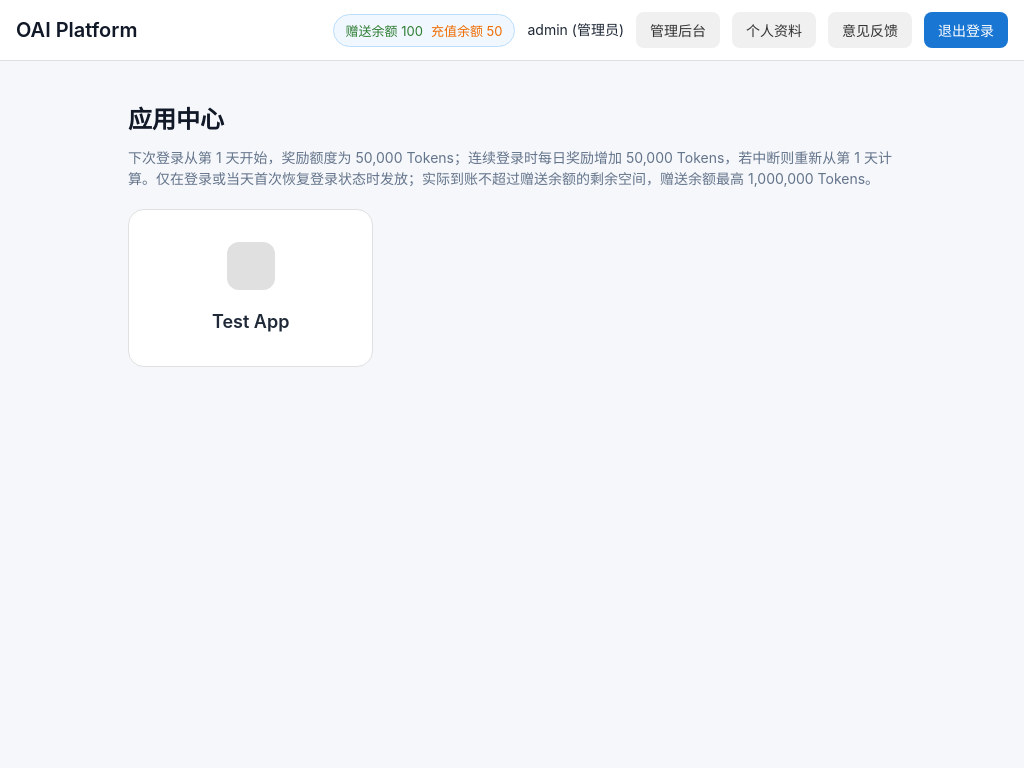
Test: AdminAppsTab › switches the create form to Agent without leaving the admin page
Expected: the heading "应用中心" is shown, [128,105,224,134]
Click the button "管理后台": (678, 30) [636,12,720,48]
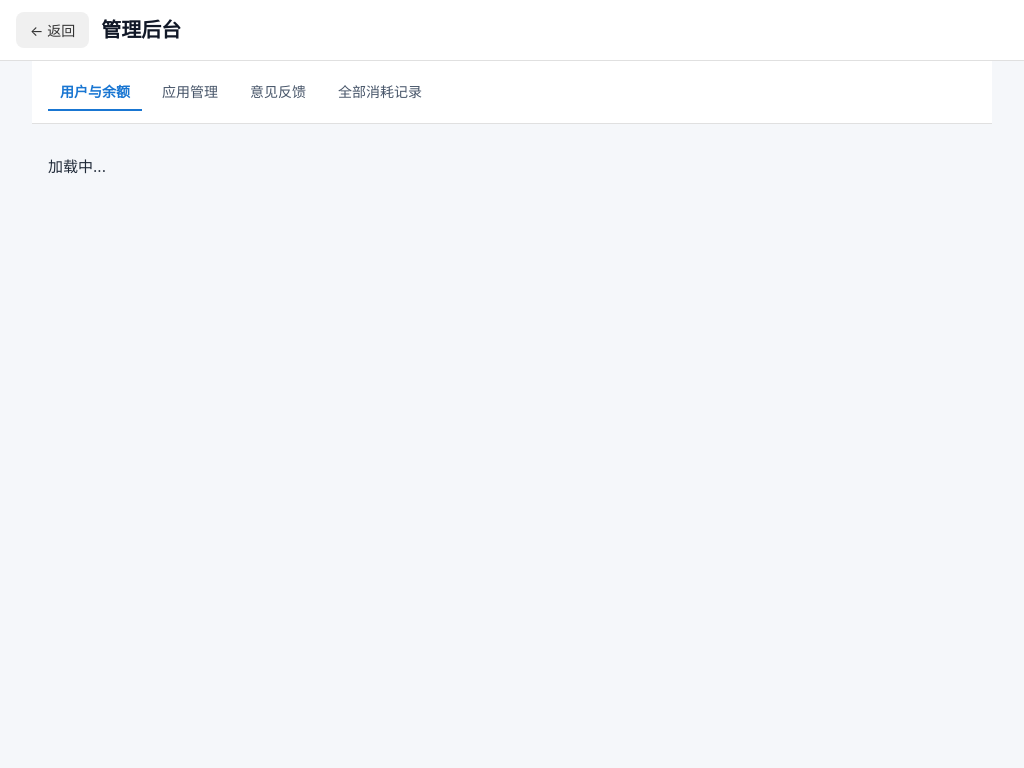
Expected: the button "应用管理" is shown
Click the button "应用管理": (190, 92) [150,73,230,111]
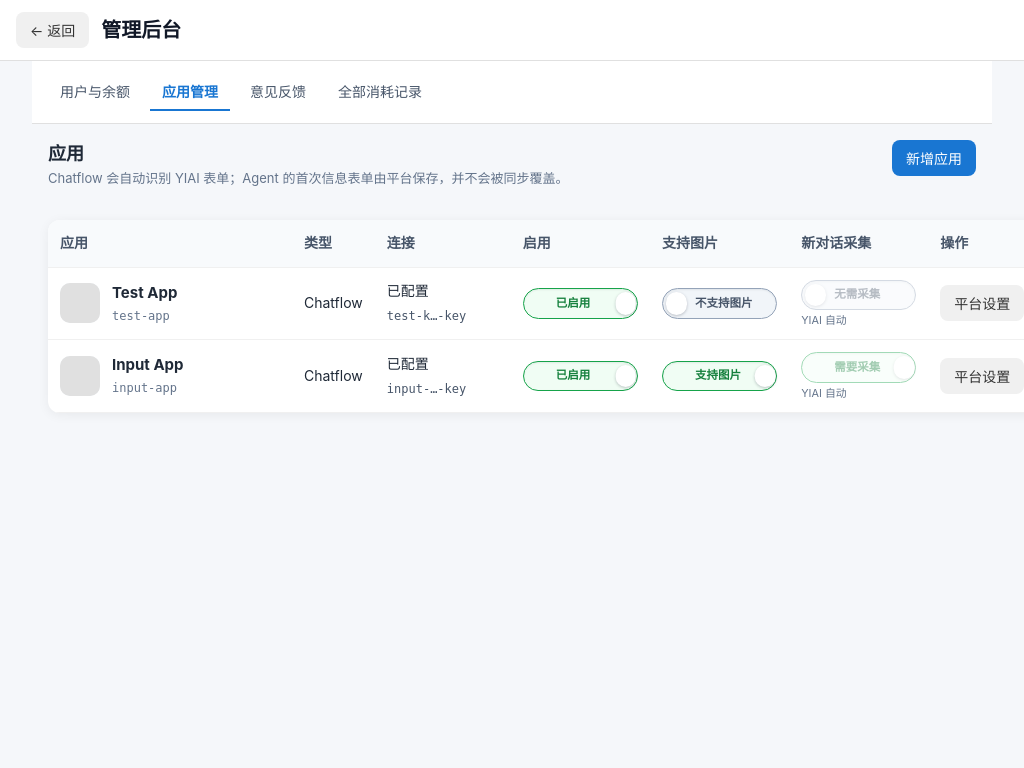
Expected: the button "新增应用" is shown
Click the button "新增应用": (934, 158) [892,140,976,176]
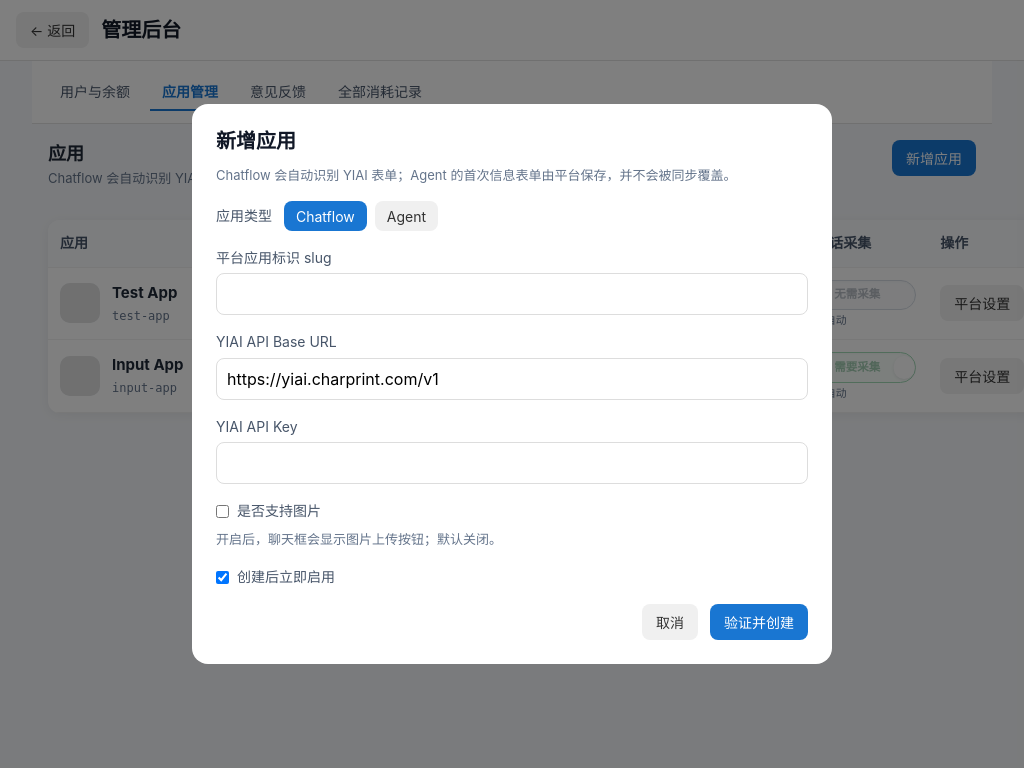
Click the button "Agent": (406, 216) [375,201,438,231]
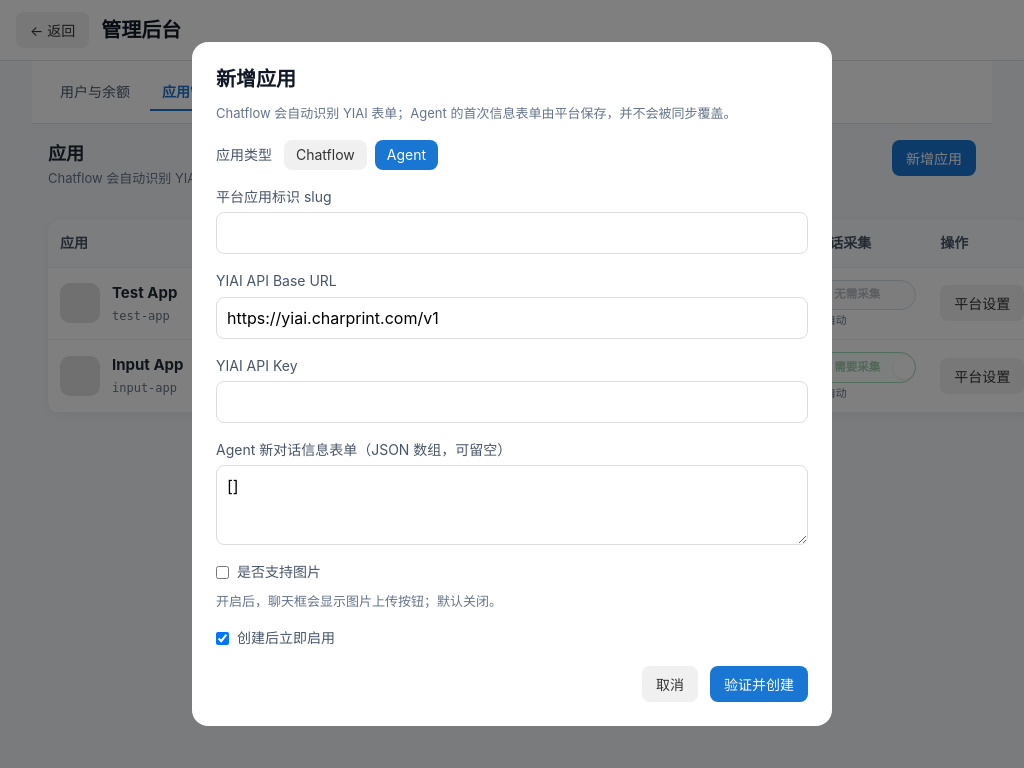
Expected: the heading "新增应用" is shown, [216,67,296,91]
Expected: the text "Agent 新对话信息表单（JSON 数组，可留空）" is shown, [216,439,808,545]
